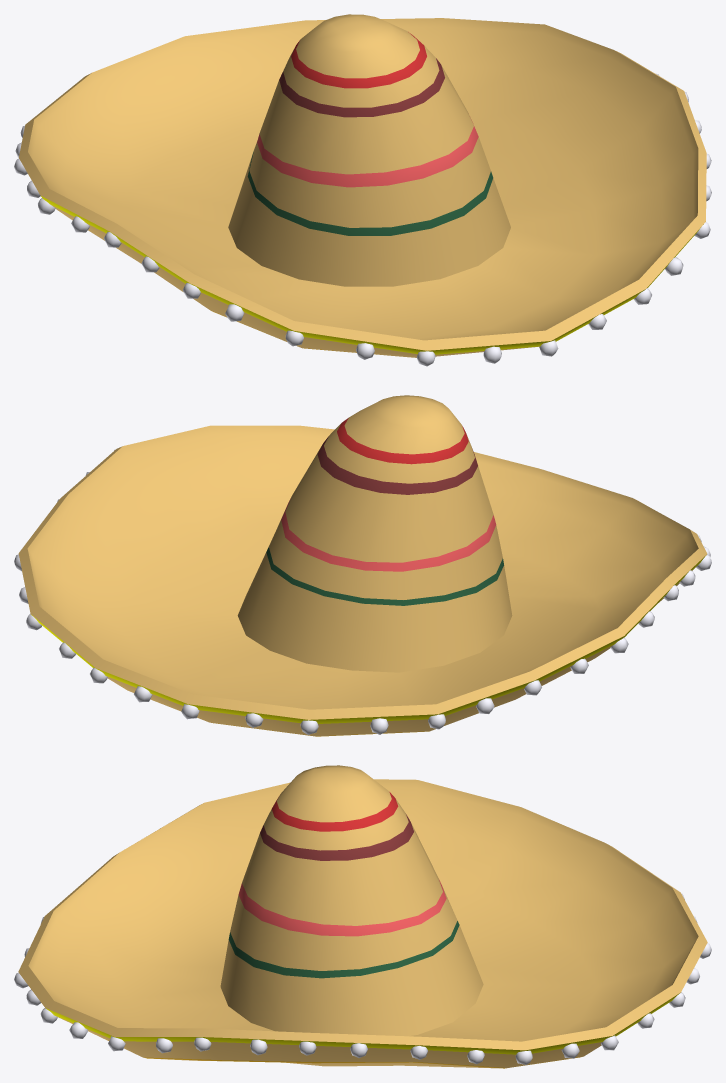
File: Hat_16_01.fbx
The picture shows the model from 3 angles, top to bottom: view 1: azimuth 30°, elevation 25°; view 2: azimuth 150°, elevation 25°; view 3: azimuth 270°, elevation 25°; orthographic projection. The views are drawn at different scales.
Parts seen in each view (by area): view 1: Hat_16_01; view 2: Hat_16_01; view 3: Hat_16_01.
Boxes of the visible parts, x1=… form: Hat_16_01: x1=14, y1=14, x2=711, y2=366; Hat_16_01: x1=14, y1=395, x2=711, y2=736; Hat_16_01: x1=14, y1=765, x2=711, y2=1068.
Bounding box in the file's own units: 87.01 × 33.9 × 95.64.
